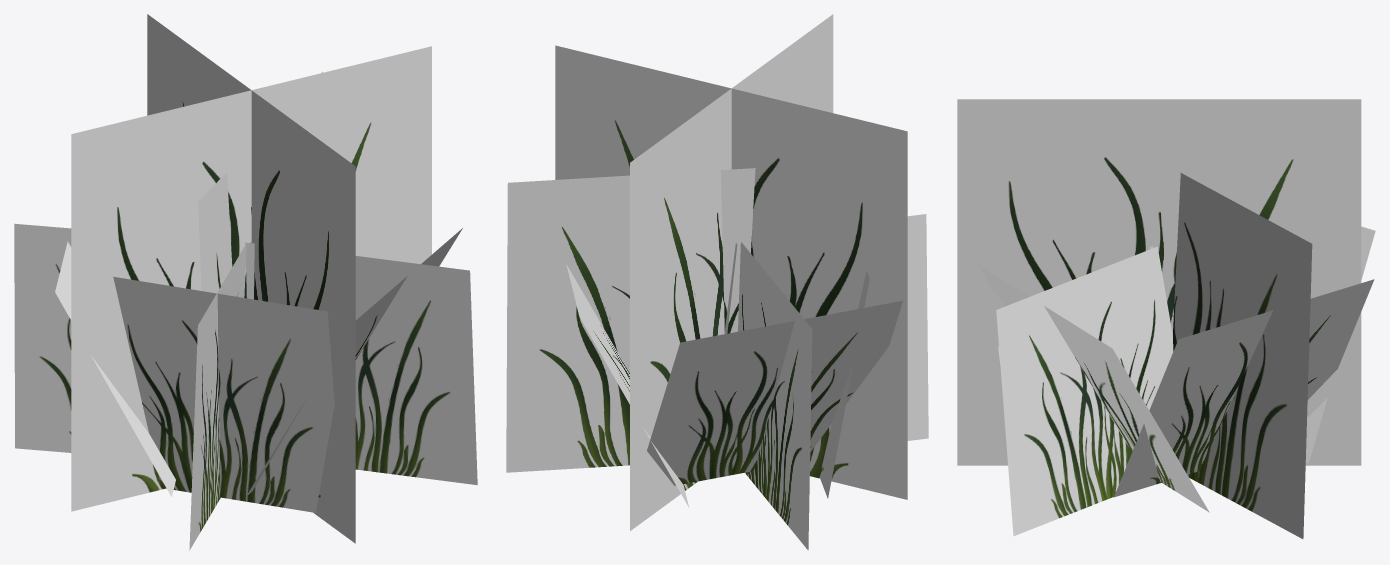
File: Water Grass.fbx
3 views of the same model, side by side, from view 1: azimuth 30°, elevation 25°; view 2: azimuth 150°, elevation 25°; view 3: azimuth 270°, elevation 25° (orthographic). The views are drawn at different scales.
Parts seen in each view (by area): view 1: Grass_LOD0; view 2: Grass_LOD0; view 3: Grass_LOD0.
Boxes of the visible parts, x1,y1,x2,y2 form: Grass_LOD0: (14, 14, 477, 550); Grass_LOD0: (506, 14, 928, 550); Grass_LOD0: (957, 99, 1375, 538).
Size of what is drawn, in the model's own units: 207 by 200 by 207.
Materials: 1 (1 with a texture image).
